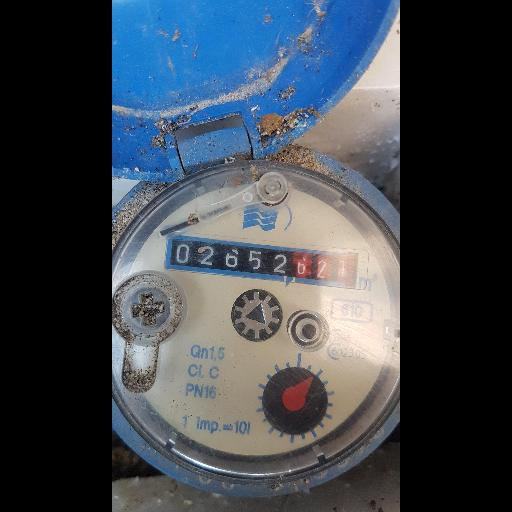0: (171, 238, 196, 266)
1: (333, 251, 359, 287)
2: (192, 241, 220, 269), (311, 253, 337, 281), (266, 250, 292, 277)
5: (242, 246, 269, 274)
6: (218, 244, 244, 272), (290, 251, 313, 279)
border_water_meter_number: (164, 230, 371, 290)
